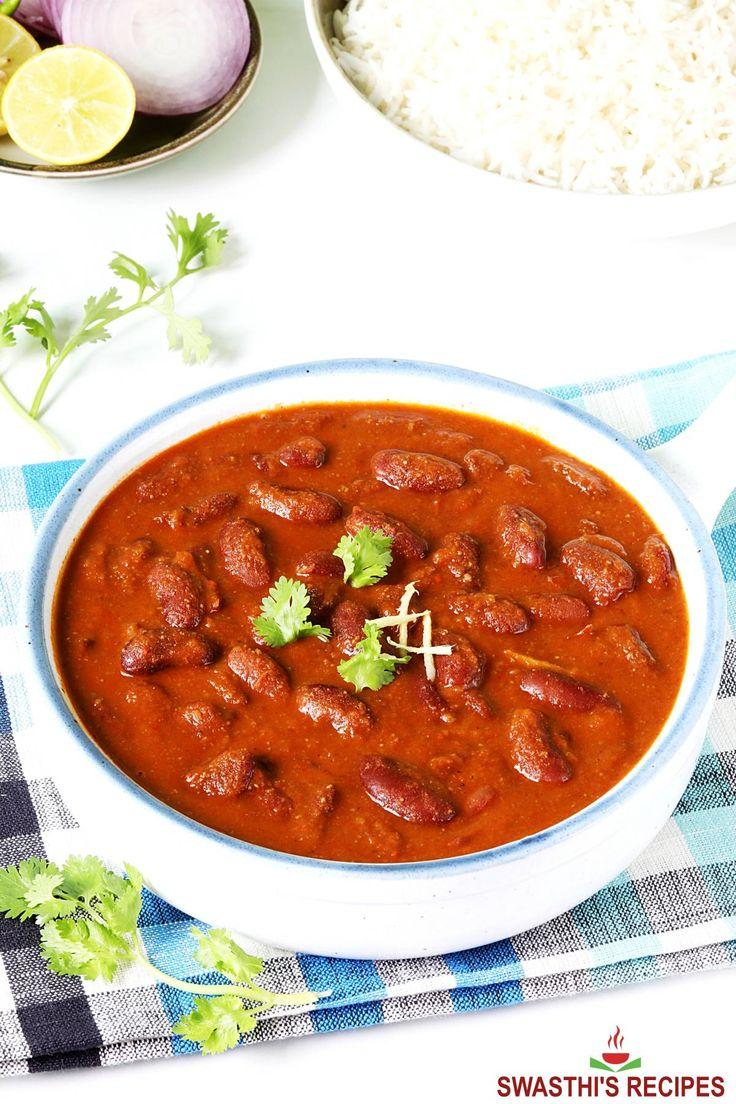rajma: (133, 437, 697, 900)
